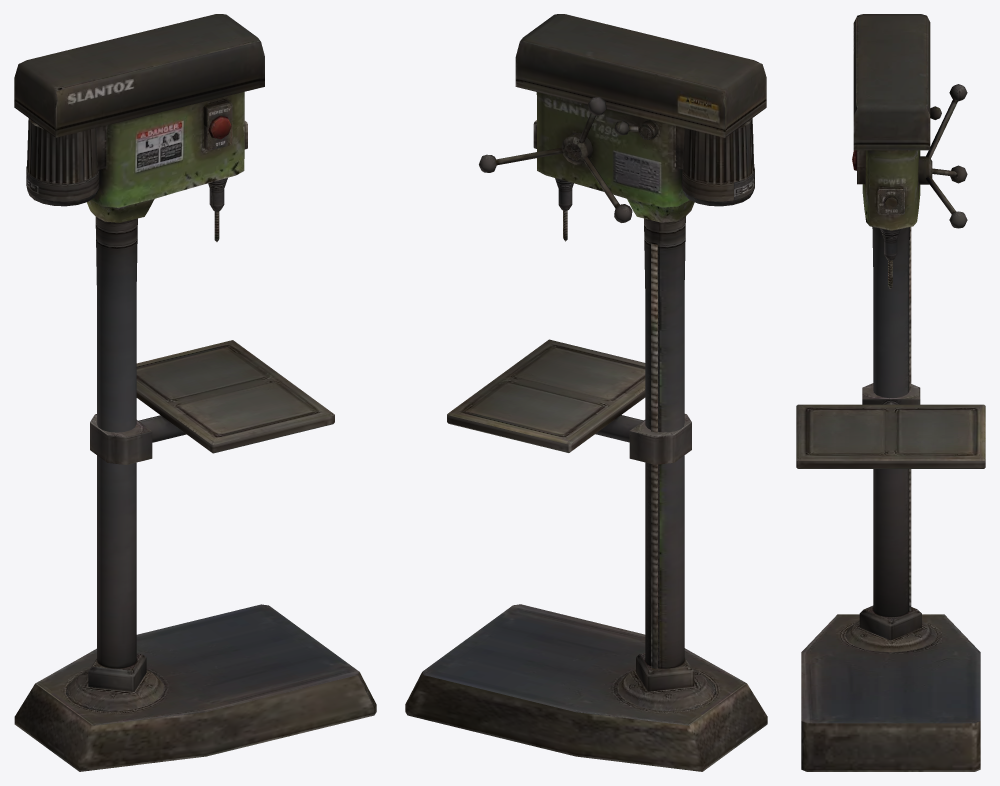
The model's file is drill-press.glb.
The picture shows the model from 3 angles, left to right: view 1: azimuth 30°, elevation 25°; view 2: azimuth 150°, elevation 25°; view 3: azimuth 270°, elevation 25°; orthographic projection. The views are drawn at different scales.
Parts seen in each view (by area): view 1: LopolyAssy; view 2: LopolyAssy; view 3: LopolyAssy.
Boxes of the visible parts, x1,y1,x2,y2 form: LopolyAssy: (14,14,376,771); LopolyAssy: (405,14,767,771); LopolyAssy: (796,14,985,771).
Size of the model in its own units: 0.789 by 1.7 by 0.4656.
1 material, 1 textured.
